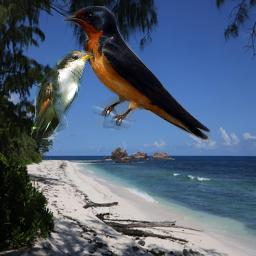Cuckoo: (31, 50, 95, 139)
Swallow: (62, 6, 211, 143)
